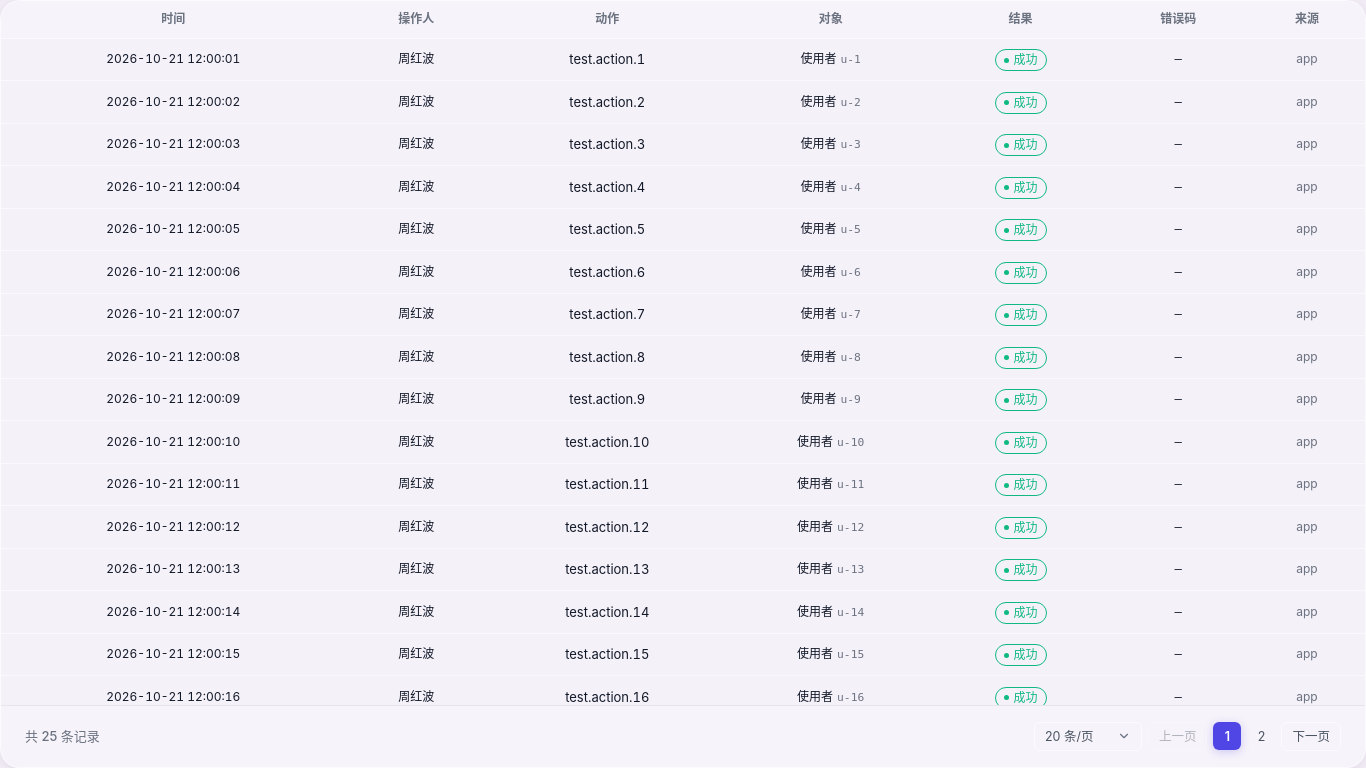
Test case: 审计日志：分页表格 + 固定表头 › 翻到第 2 页只渲染剩下 5 条，末页的下一页禁用、上一页可用
This screenshot has width=1366, height=768.
expect the text "test.action.1" is shown: met, box [487,39,728,81]
Click the button "下一页": coordinates (1311, 736) [1282,722,1341,751]
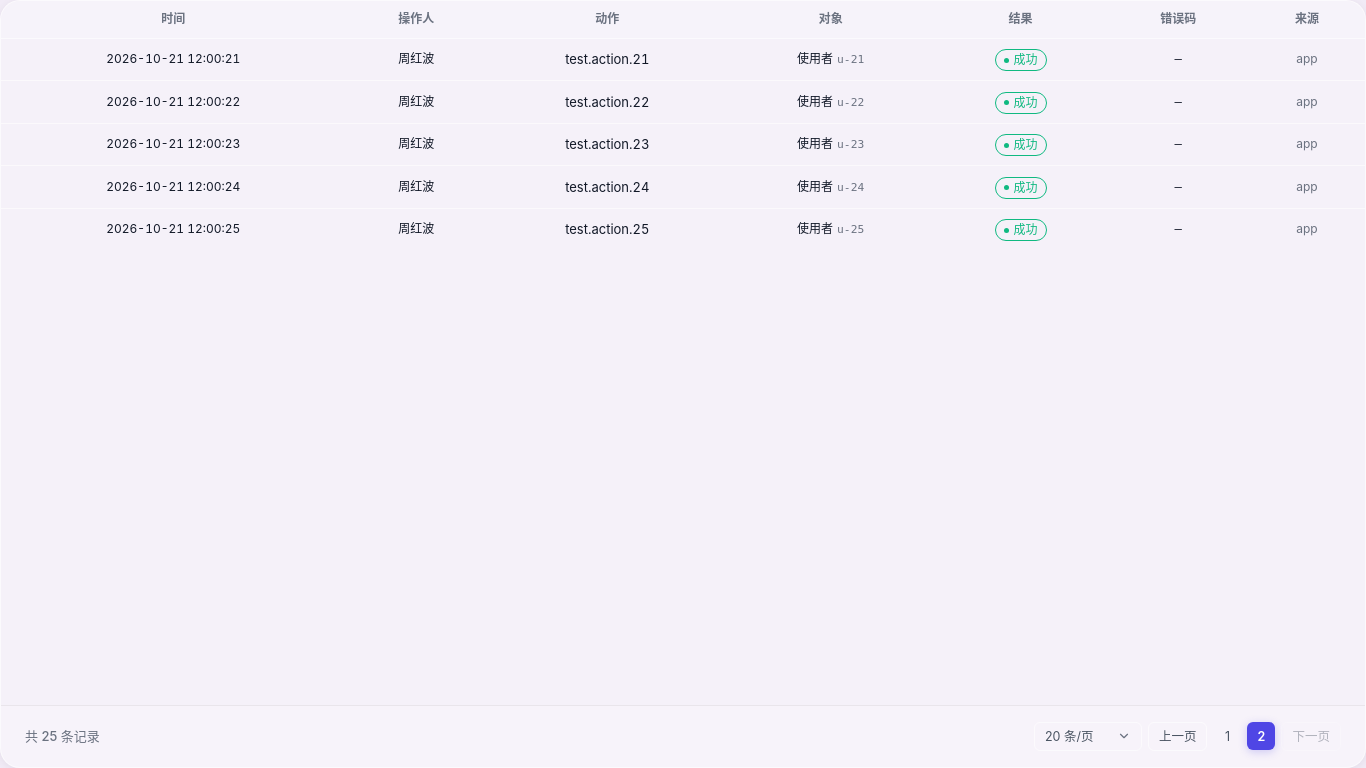
expect the number of rows is 6: met, box [1,1,1365,39]; [1,39,1365,81]; [1,81,1365,124]; [1,124,1365,166]; [1,166,1365,209]; [1,209,1365,250]
expect the text "test.action.25" is shown: met, box [487,209,728,250]
expect the button "下一页" is disabled: met, box [1282,722,1341,751]
